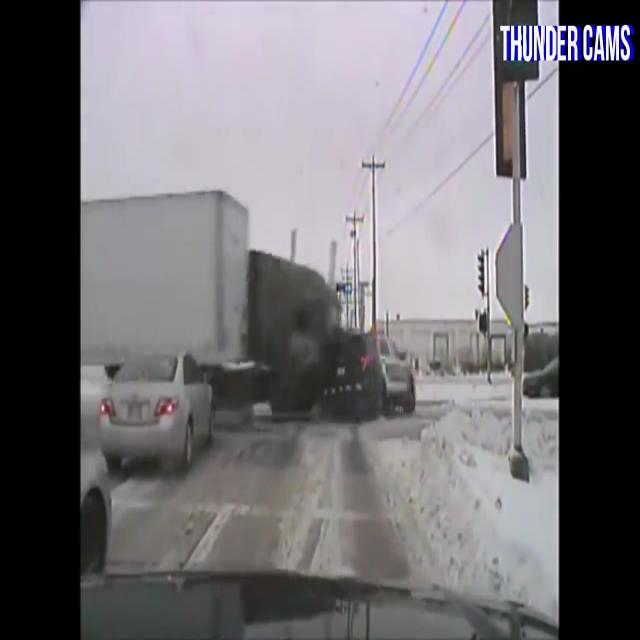accident: (304, 282, 428, 433)
